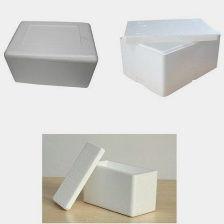foam_box: (115, 13, 224, 99), (48, 138, 162, 219), (0, 16, 103, 91)
